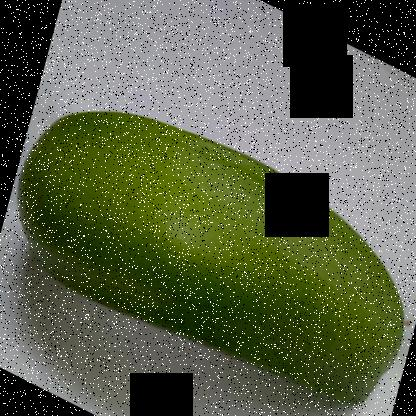freshunripe: (2, 83, 410, 415)
